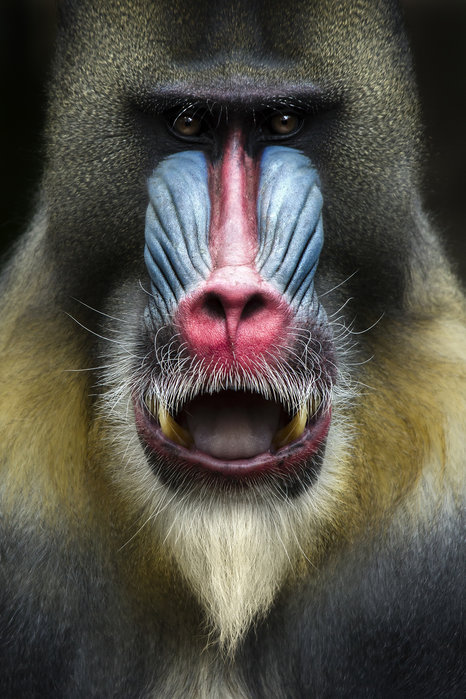Mandrill: (59, 8, 414, 673)
